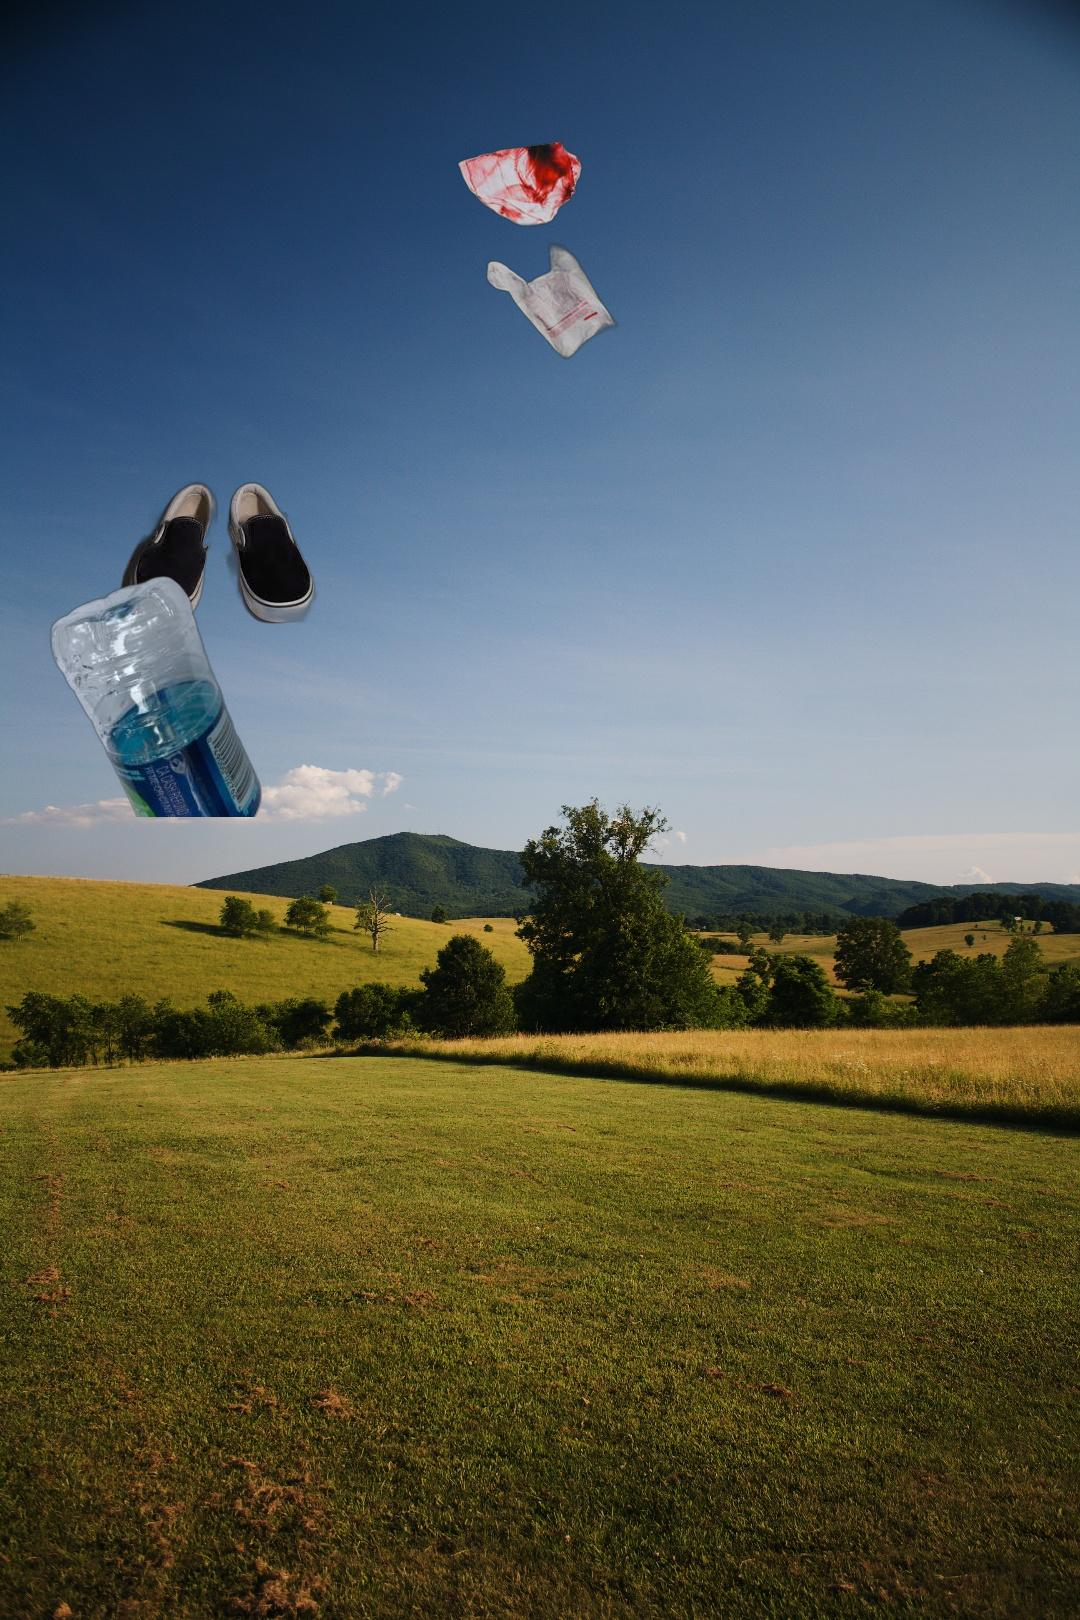plastic-bag: (454, 137, 624, 362)
plastic-bottles: (46, 573, 278, 817)
shoes: (119, 476, 319, 628)
